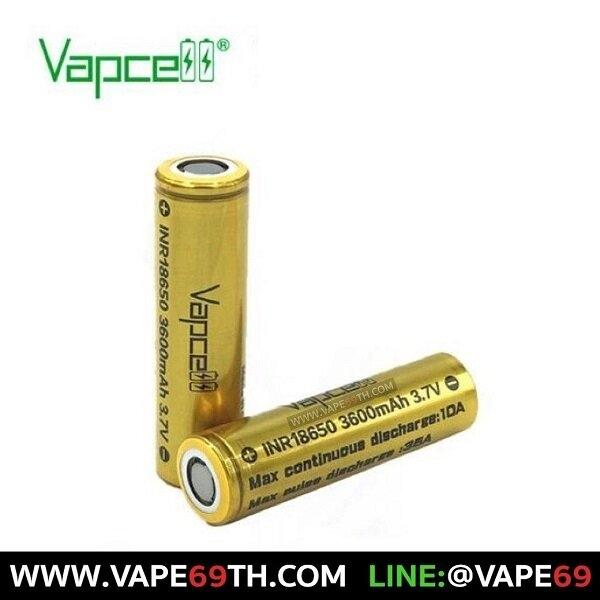Battery: (173, 351, 482, 529), (150, 149, 252, 492)
